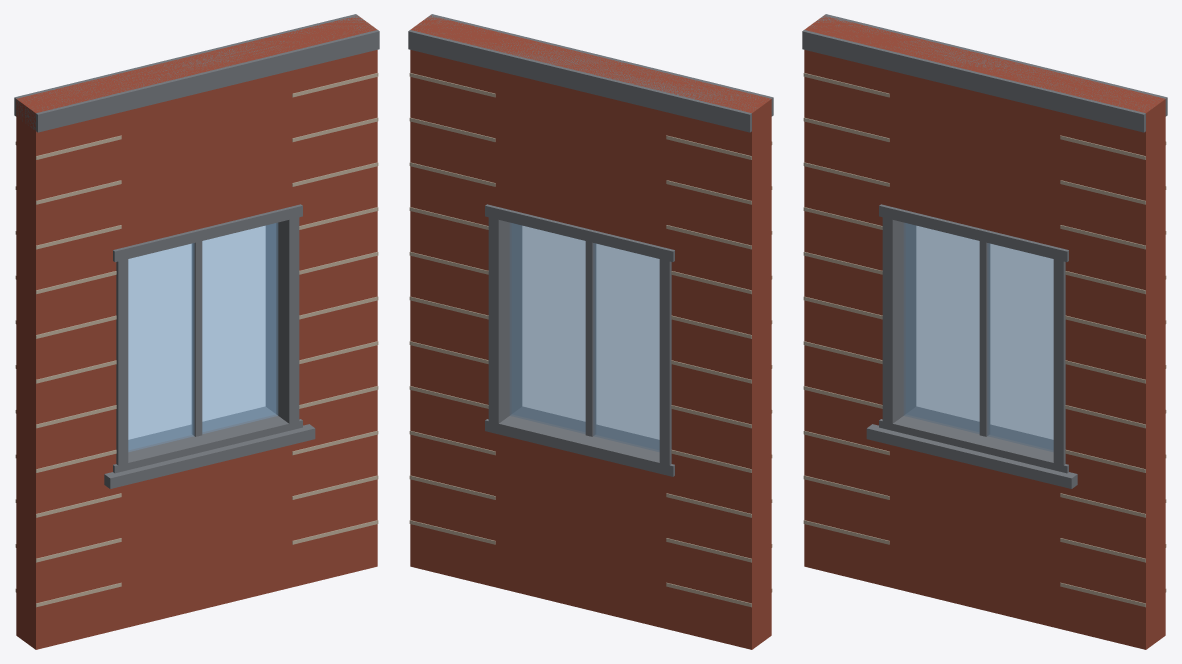
File: wall_brick_window.glb
3 renders of one model, left to right at view 1: azimuth 30°, elevation 25°; view 2: azimuth 150°, elevation 25°; view 3: azimuth 330°, elevation 25°, orthographic.
Visible parts, largest first — view 1: wall_brick_window; view 2: wall_brick_window; view 3: wall_brick_window.
Part boxes in pixels (x1=…): wall_brick_window: x1=14, y1=14, x2=379, y2=649; wall_brick_window: x1=408, y1=14, x2=773, y2=649; wall_brick_window: x1=802, y1=14, x2=1167, y2=649.
Size of the model in its own units: 2 by 3 by 0.28.
